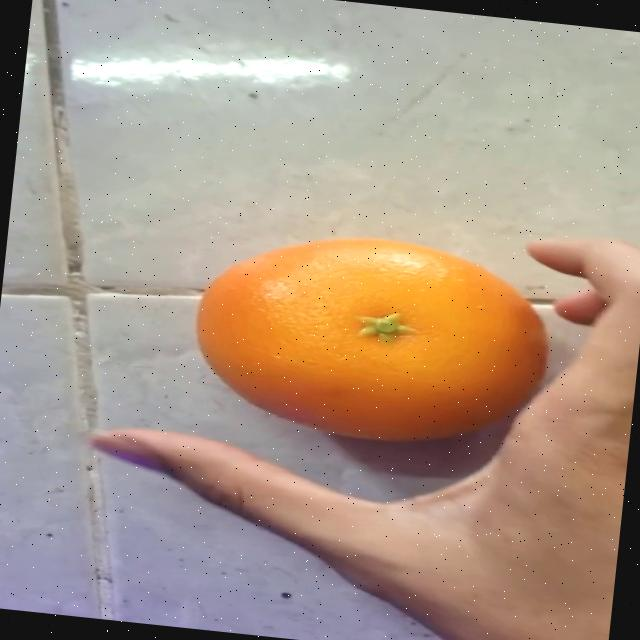orange: (178, 212, 551, 464)
